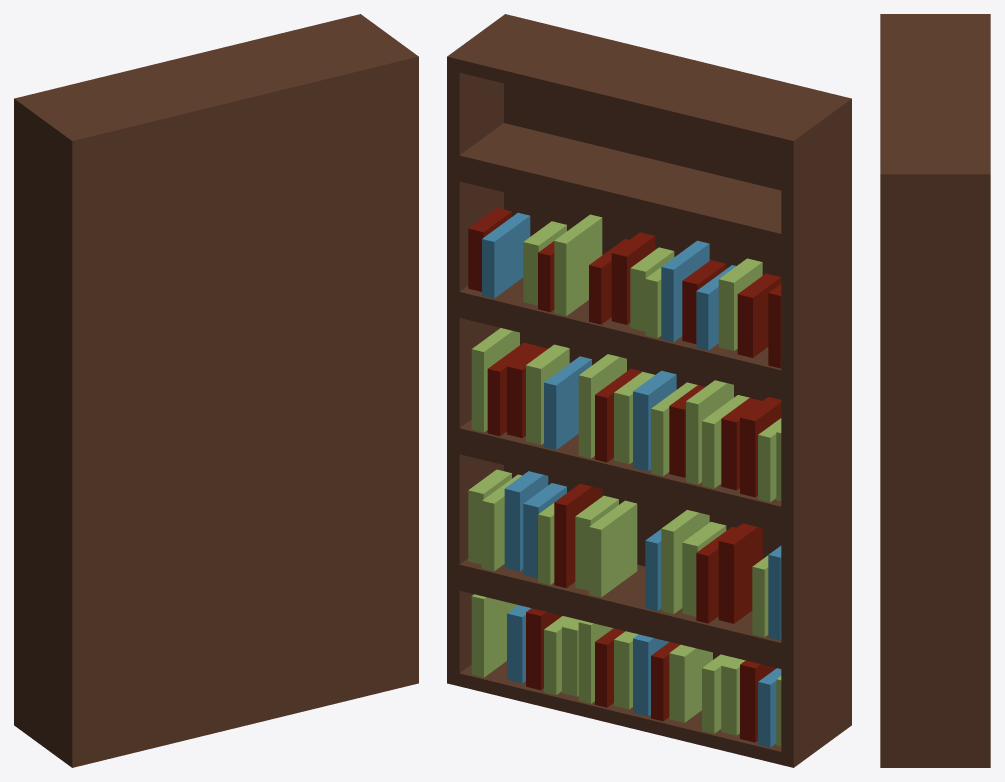
Rendered from shelf.fbx.
3 views of the same model, side by side, from view 1: azimuth 30°, elevation 25°; view 2: azimuth 150°, elevation 25°; view 3: azimuth 270°, elevation 25° (orthographic). The views are drawn at different scales.
Parts seen in each view (by area): view 1: Cube.004; view 2: Cube.004; view 3: Cube.004.
Part boxes in pixels (x1,y1,x2,y2): Cube.004: (14, 14, 418, 767); Cube.004: (447, 14, 851, 767); Cube.004: (880, 14, 990, 767).
Bounding box in the file's own units: 247 × 427 × 71.92.
